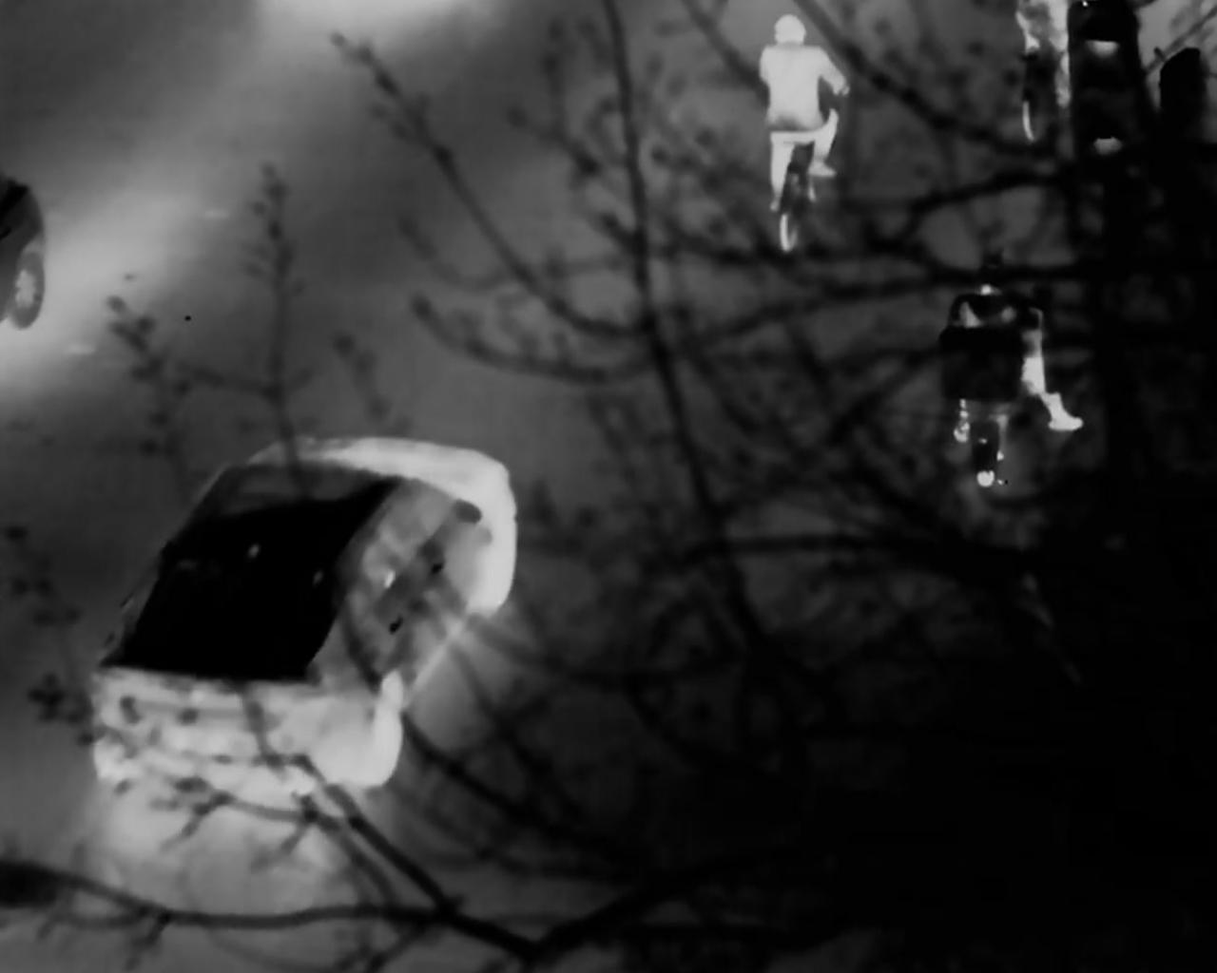person: (954, 262, 1090, 444), (763, 12, 858, 212)
